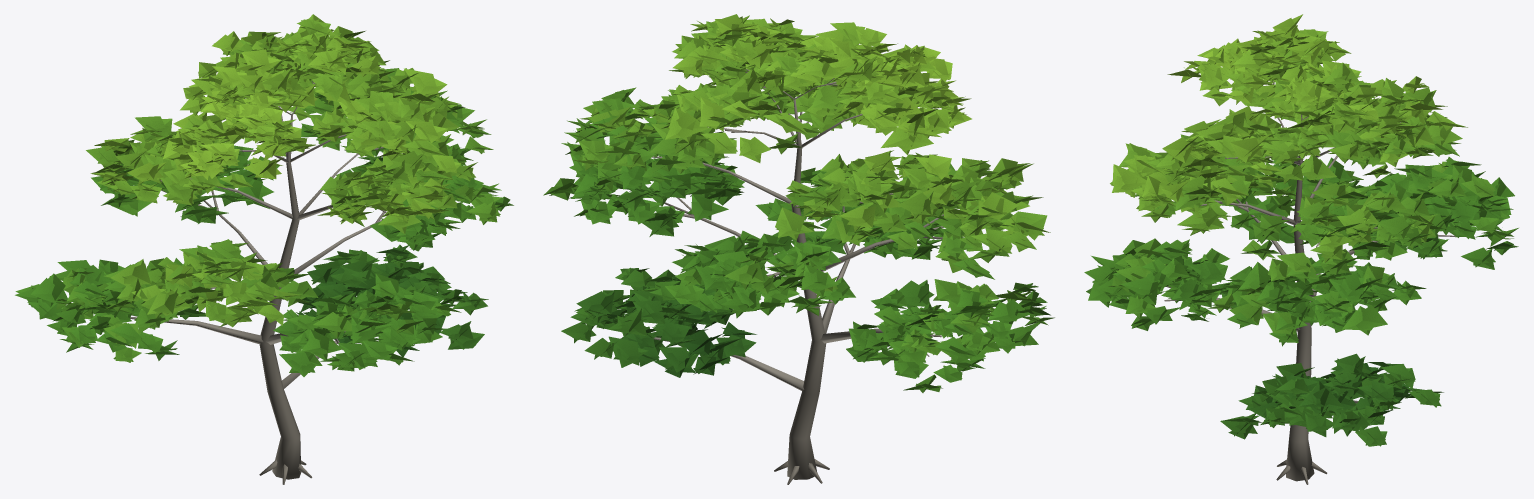
File: tree_maple.glb
3 renders of one model, left to right at view 1: azimuth 30°, elevation 25°; view 2: azimuth 150°, elevation 25°; view 3: azimuth 270°, elevation 25°, orthographic. The views are drawn at different scales.
Visible parts, largest first — view 1: tree_maple; view 2: tree_maple; view 3: tree_maple.
Boxes of the visible parts, box(x1,y1,x2,y2) form: tree_maple: box(15, 14, 513, 484); tree_maple: box(543, 14, 1054, 484); tree_maple: box(1084, 14, 1518, 484).
Bounding box in the file's own units: 8.05 × 7.55 × 6.96.
